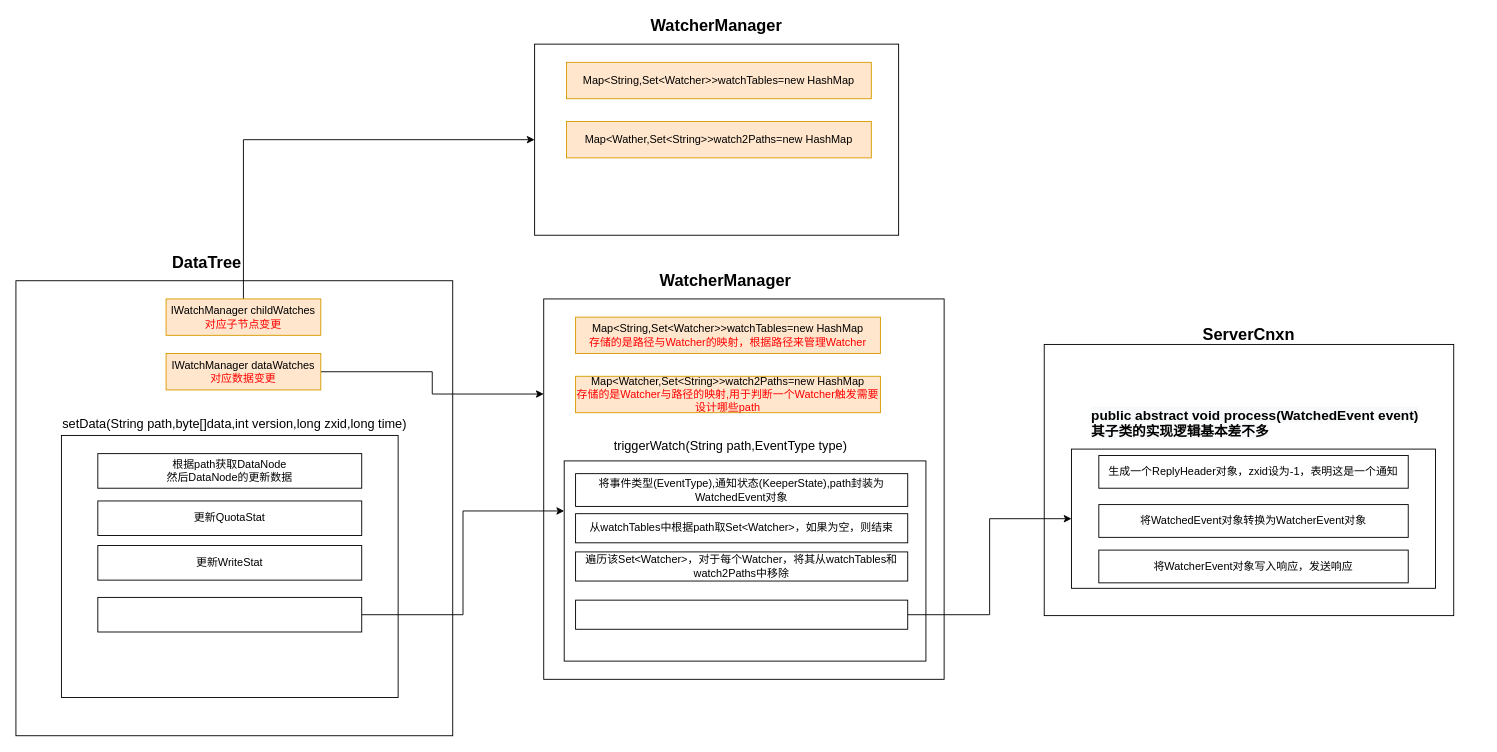
This 1497x752 diagram has some shape labels left out. Here are the shapes that lost their labels. From the top down, the centre of each, then its label:
pixel 229 614: dataWatches.triggerWatch(path,EventType.NodeDataChanged)
pixel 741 614: 遍历该Set<Watcher>，对于每个Watcher，调用其process()方法
